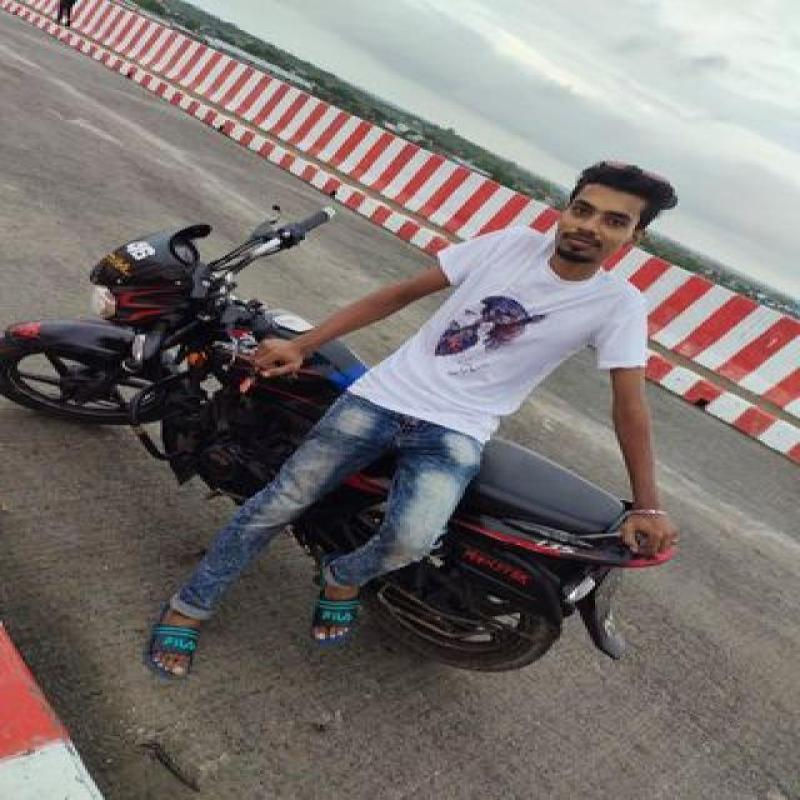nohelmet: (537, 148, 688, 280)
